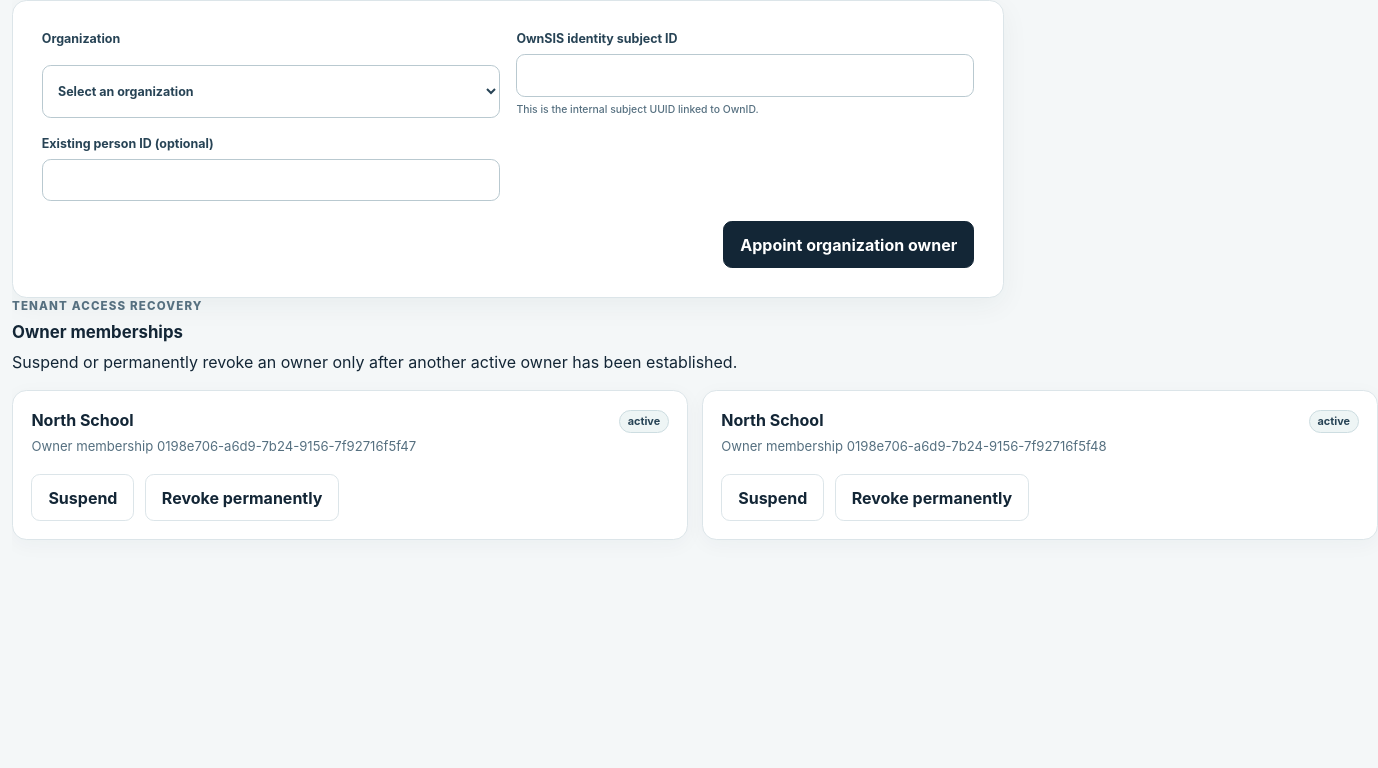
Test: OwnerAppointmentForm › suspends a listed owner through the platform lifecycle endpoint
Click the button "Suspend" below "0198e706-a6d9-7b24-9156-7f92716f5f47" at (83, 498), box [31,474,134,521]
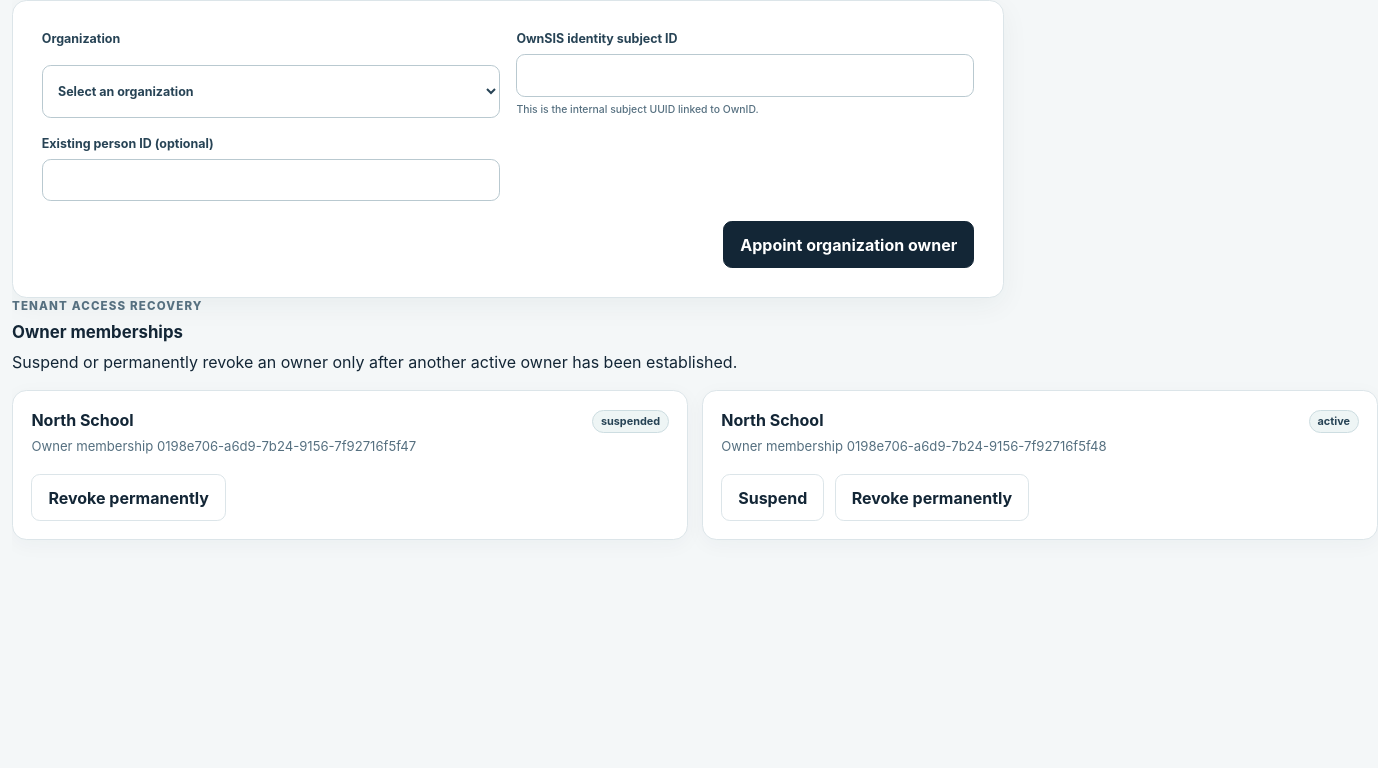
Expected: the text "suspended" is shown, [592,410,669,433]
